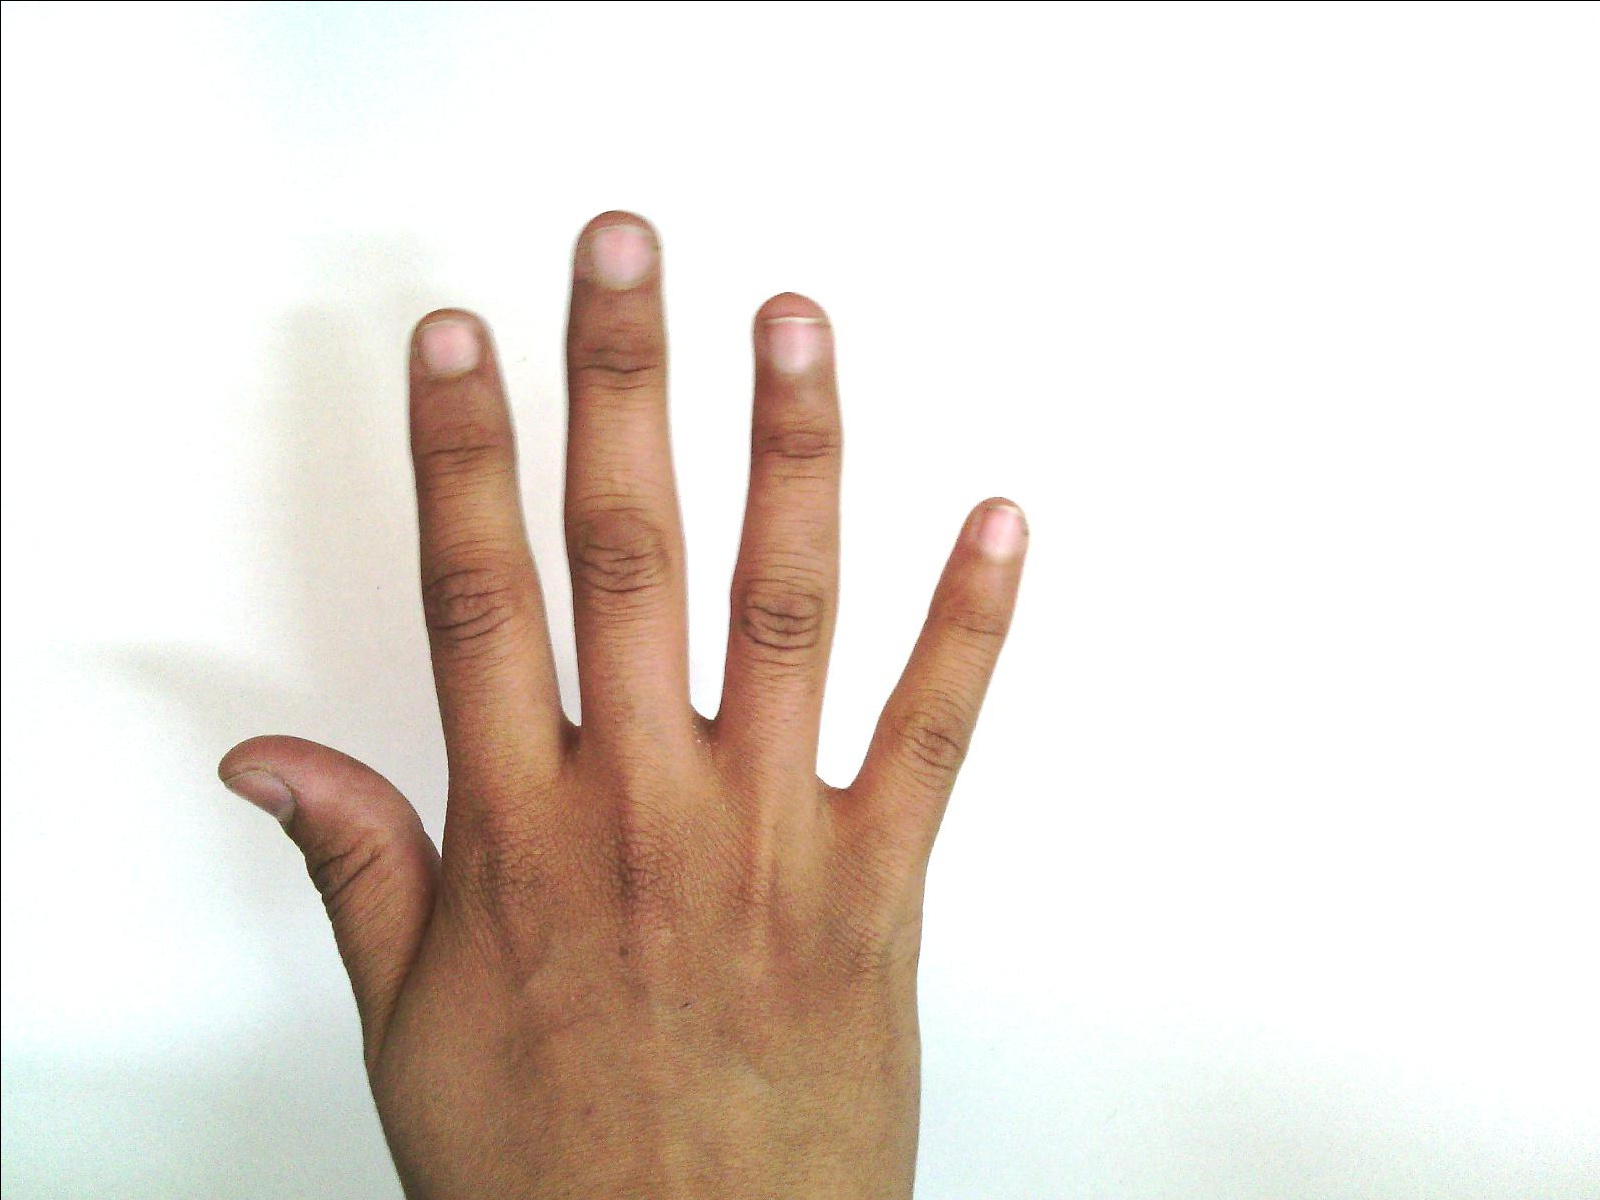5-hand: (228, 205, 1015, 1200)
